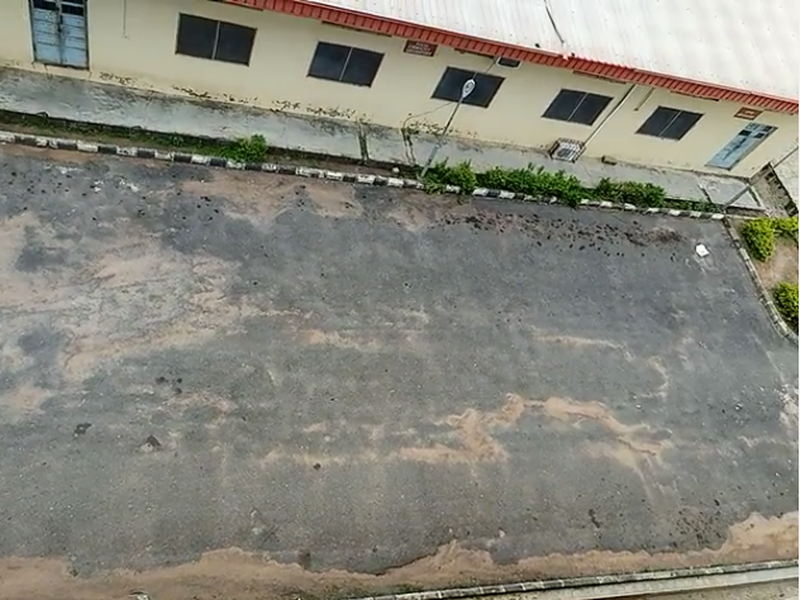five: (631, 185, 776, 346)
four: (472, 164, 588, 345)
one: (1, 112, 108, 324)
three: (313, 154, 426, 335)
two: (155, 124, 272, 325)
